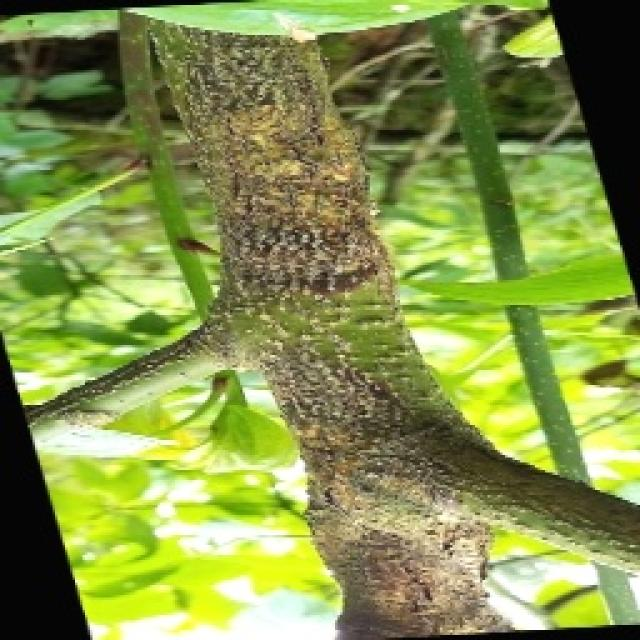Golden_canker: (39, 19, 636, 619)
